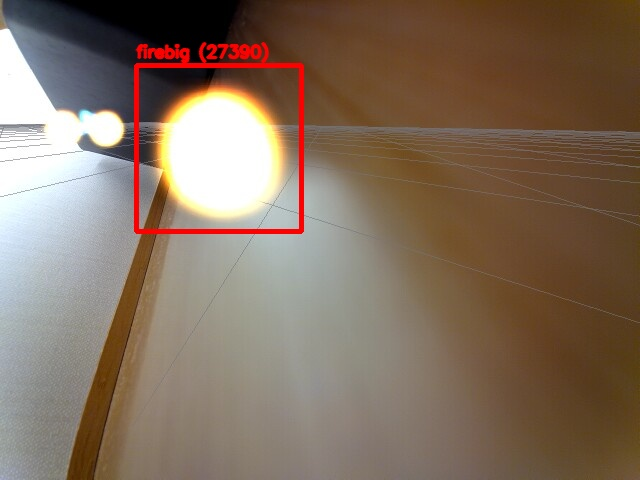firebig: (136, 65, 301, 231)
